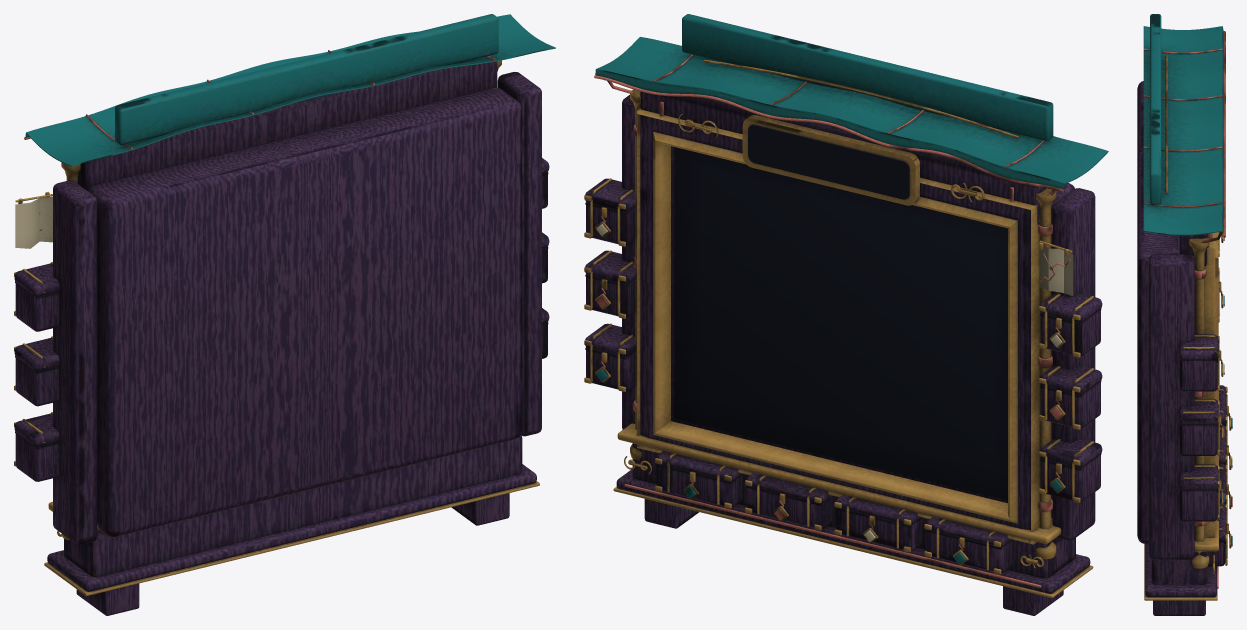
The picture shows the model from 3 angles, left to right: view 1: azimuth 30°, elevation 25°; view 2: azimuth 150°, elevation 25°; view 3: azimuth 270°, elevation 25°; orthographic projection. The views are drawn at different scales.
Parts seen in each view (by area): view 1: Violet_travel_timber, Woven_teal_cloth, Caravan_brass, Route_parchment; view 2: Uniform_inset, Violet_travel_timber, Caravan_brass, Woven_teal_cloth, Coral_bindings, Route_parchment; view 3: Violet_travel_timber, Woven_teal_cloth, Caravan_brass, Coral_bindings.
Part boxes in pixels (x1,y1,x2,y2): Violet_travel_timber: [14, 61, 549, 615]; Woven_teal_cloth: [25, 14, 555, 166]; Caravan_brass: [14, 60, 542, 596]; Route_parchment: [15, 196, 52, 248]; Uniform_inset: [585, 124, 1101, 549]; Violet_travel_timber: [585, 91, 1102, 615]; Caravan_brass: [584, 59, 1094, 597]; Woven_teal_cloth: [595, 14, 1108, 564]; Coral_bindings: [594, 54, 1069, 587]; Route_parchment: [596, 224, 1073, 542]; Violet_travel_timber: [1137, 81, 1226, 615]; Woven_teal_cloth: [1143, 14, 1232, 546]; Caravan_brass: [1144, 55, 1231, 600]; Coral_bindings: [1143, 31, 1232, 588].
Bounding box in the file's own units: 9.93 × 9.3 × 1.83.
6 materials, 6 textured.
